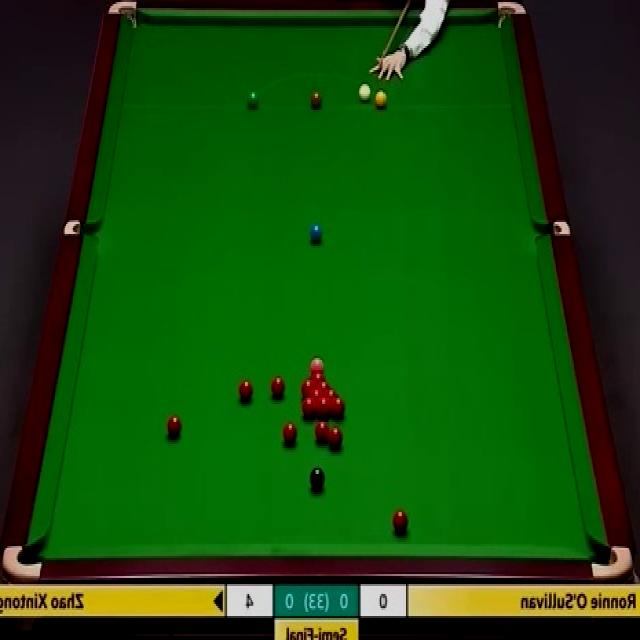black-ball: (309, 465, 326, 491)
blue-ball: (309, 223, 323, 244)
brown-ball: (309, 88, 324, 110)
green-ball: (245, 90, 260, 110)
pink-ball: (310, 356, 325, 374)
red-ball: (391, 508, 410, 534), (167, 414, 182, 441), (301, 397, 316, 422), (330, 395, 346, 418), (283, 421, 298, 445), (238, 378, 253, 402), (315, 396, 331, 417), (328, 426, 343, 448), (271, 375, 285, 398), (314, 421, 328, 442), (315, 380, 332, 390), (302, 380, 314, 394), (306, 389, 322, 399), (310, 373, 326, 382), (323, 388, 337, 398)
white-ball: (357, 82, 373, 104)
yellow-ball: (375, 88, 388, 109)
